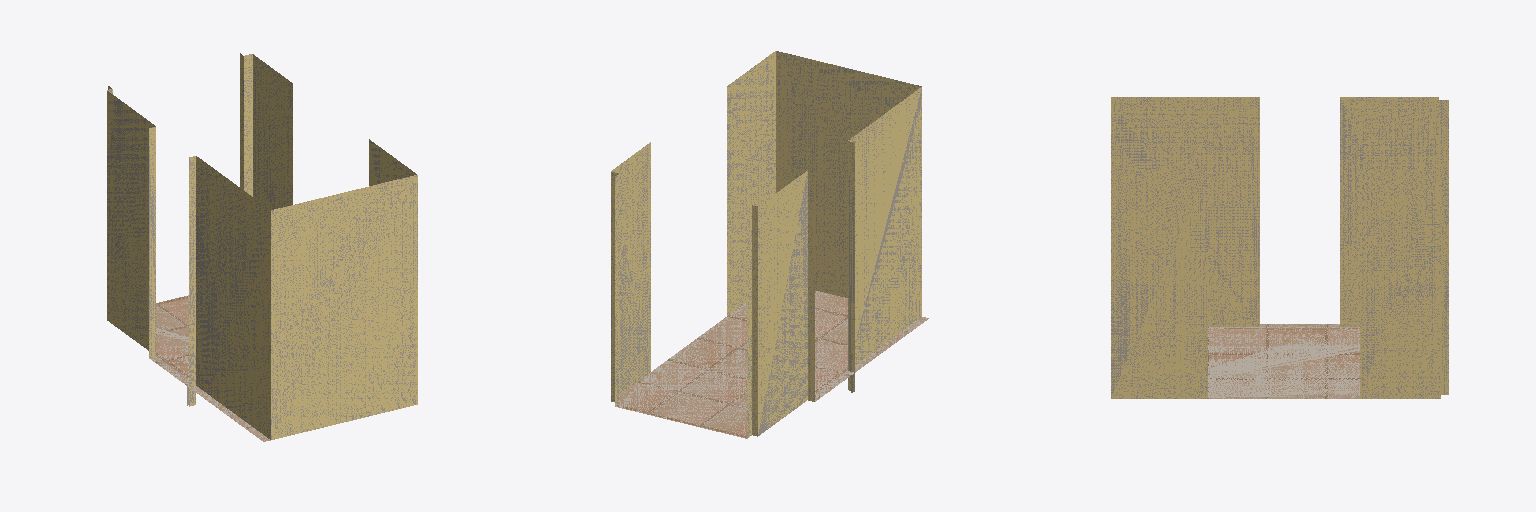
3 renders of one model, left to right at view 1: azimuth 30°, elevation 25°; view 2: azimuth 150°, elevation 25°; view 3: azimuth 270°, elevation 25°, orthographic.
Parts seen in each view (by area): view 1: Mesh1 CUA038 Model; view 2: Mesh1 CUA038 Model; view 3: Mesh1 CUA038 Model.
Boxes of the visible parts, x1,y1,x2,y2 form: Mesh1 CUA038 Model: [107, 53, 417, 441]; Mesh1 CUA038 Model: [611, 51, 928, 438]; Mesh1 CUA038 Model: [1111, 97, 1448, 398].
Bounding box in the file's own units: 2.1 × 3.25 × 4.
Materials: 3 (1 with a texture image).